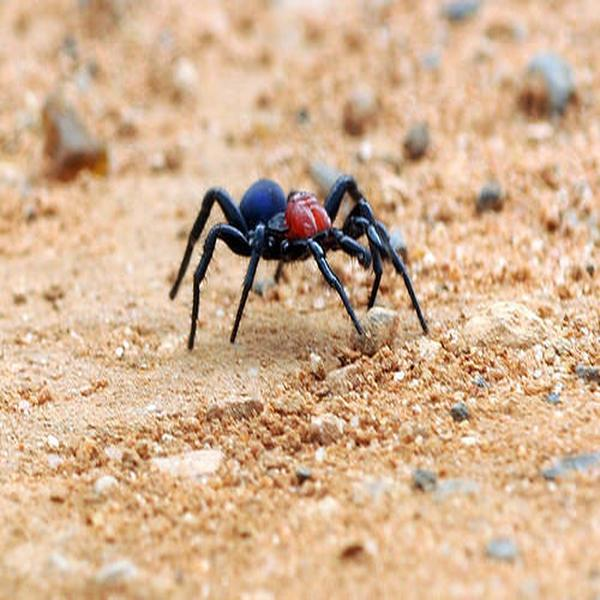Red Headed Mouse Spider: (177, 173, 427, 341)
